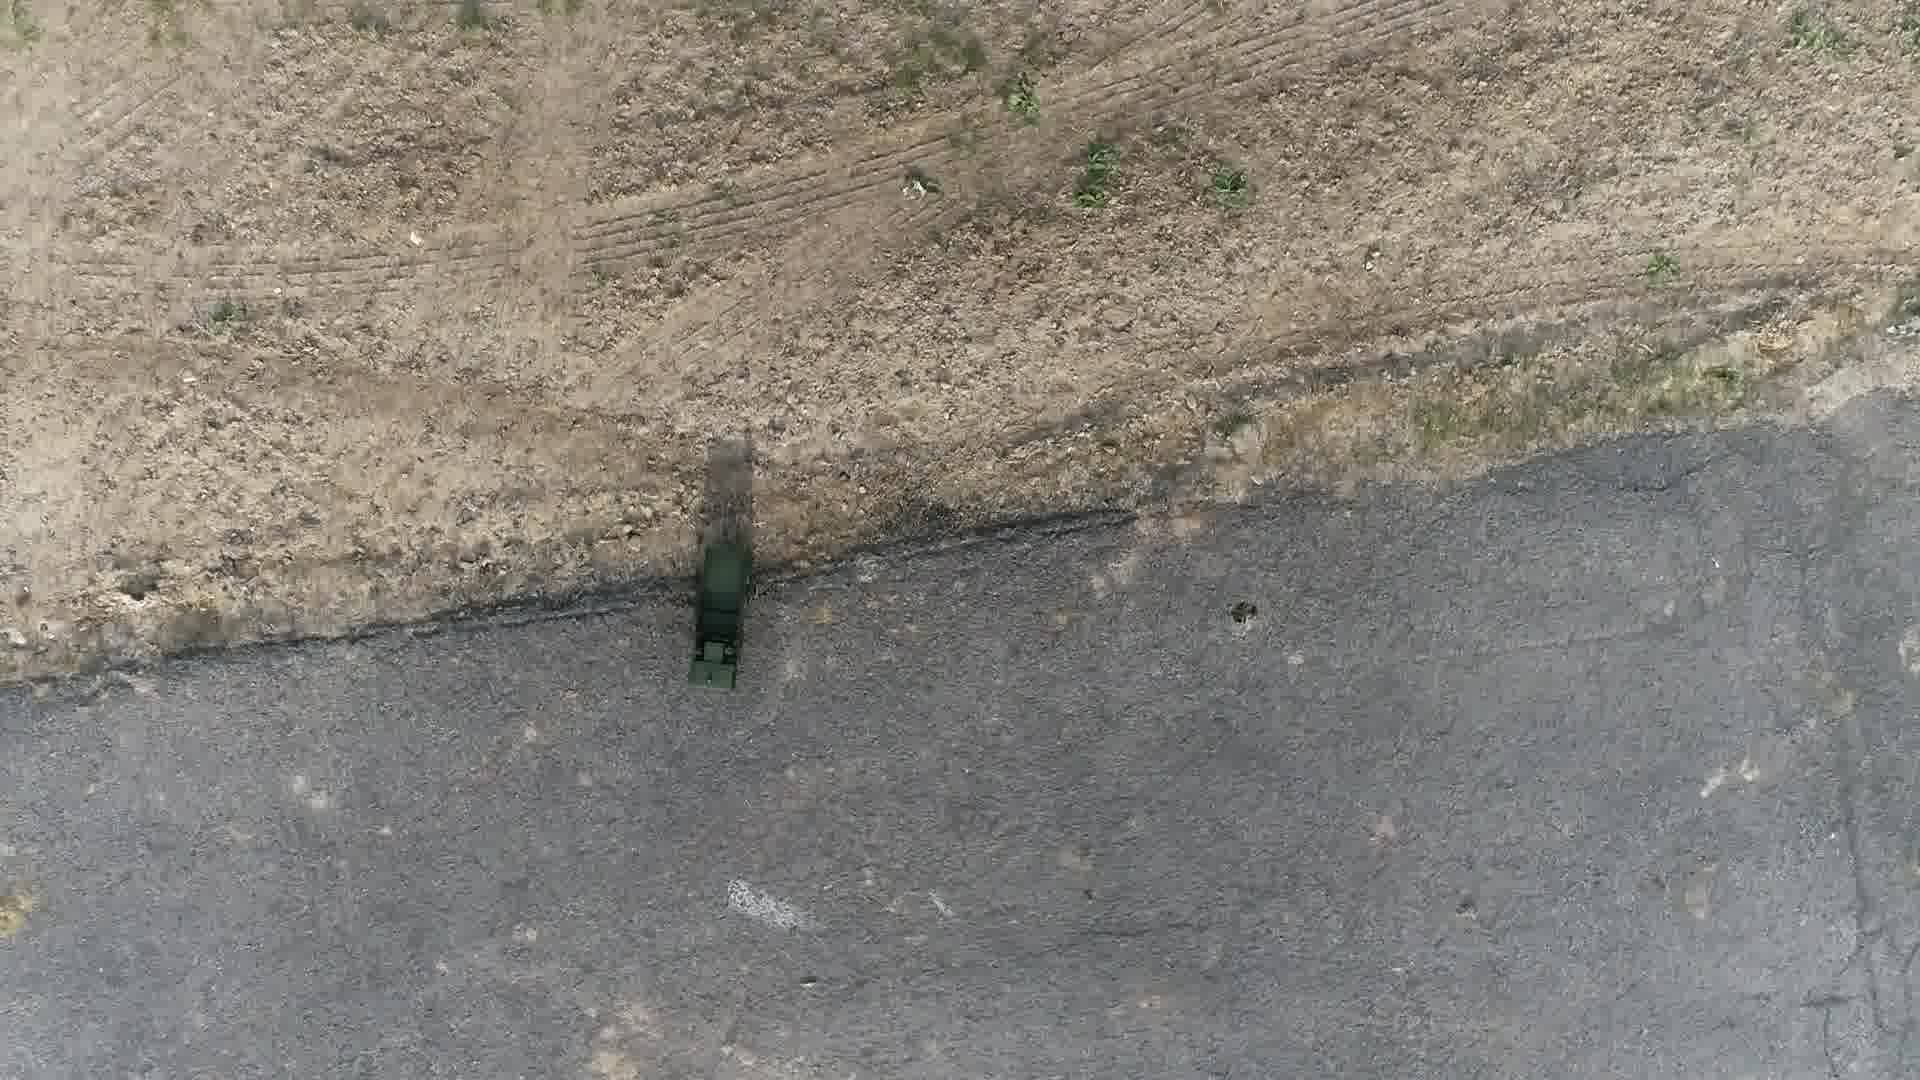transporter9: (679, 539, 760, 698)
